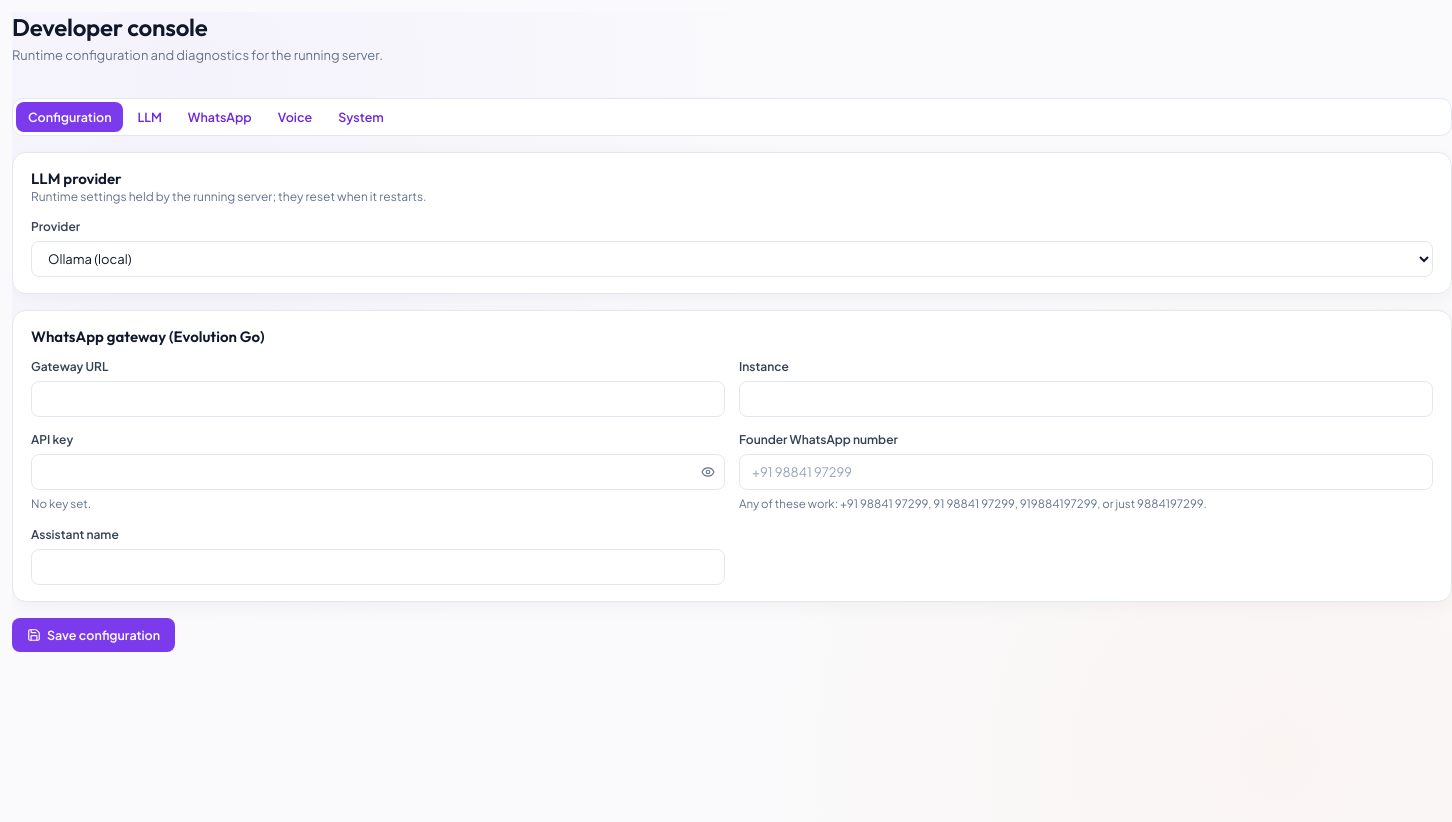
Test: Voice tab › shows an honest unreachable state
Click the tab "Voice": [295, 116] box left=266, top=102, right=324, bottom=132
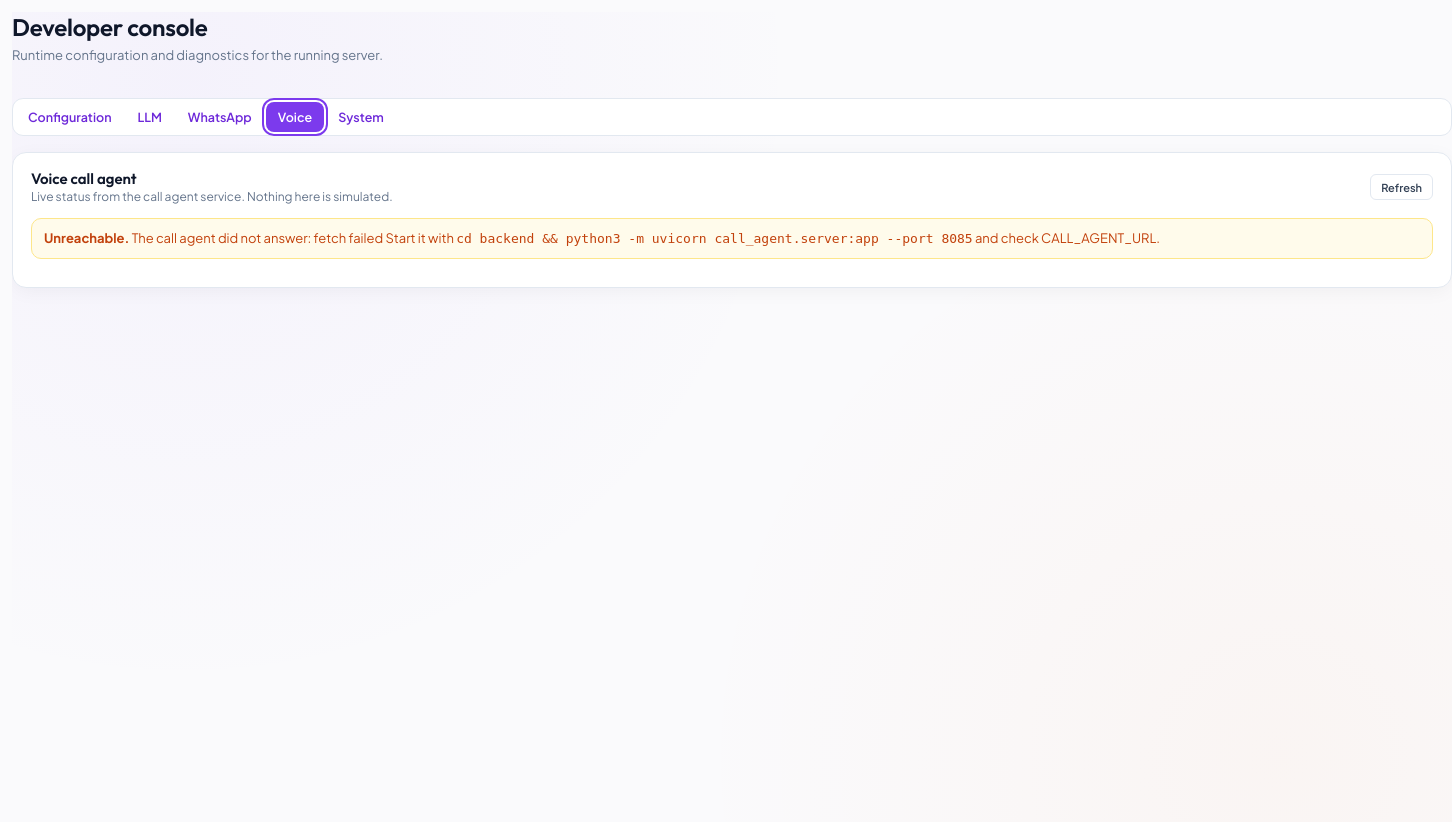
Result: the text "Unreachable." is shown at left=44, top=230, right=129, bottom=246
Result: the text "fetch failed" is shown at left=308, top=230, right=383, bottom=246
